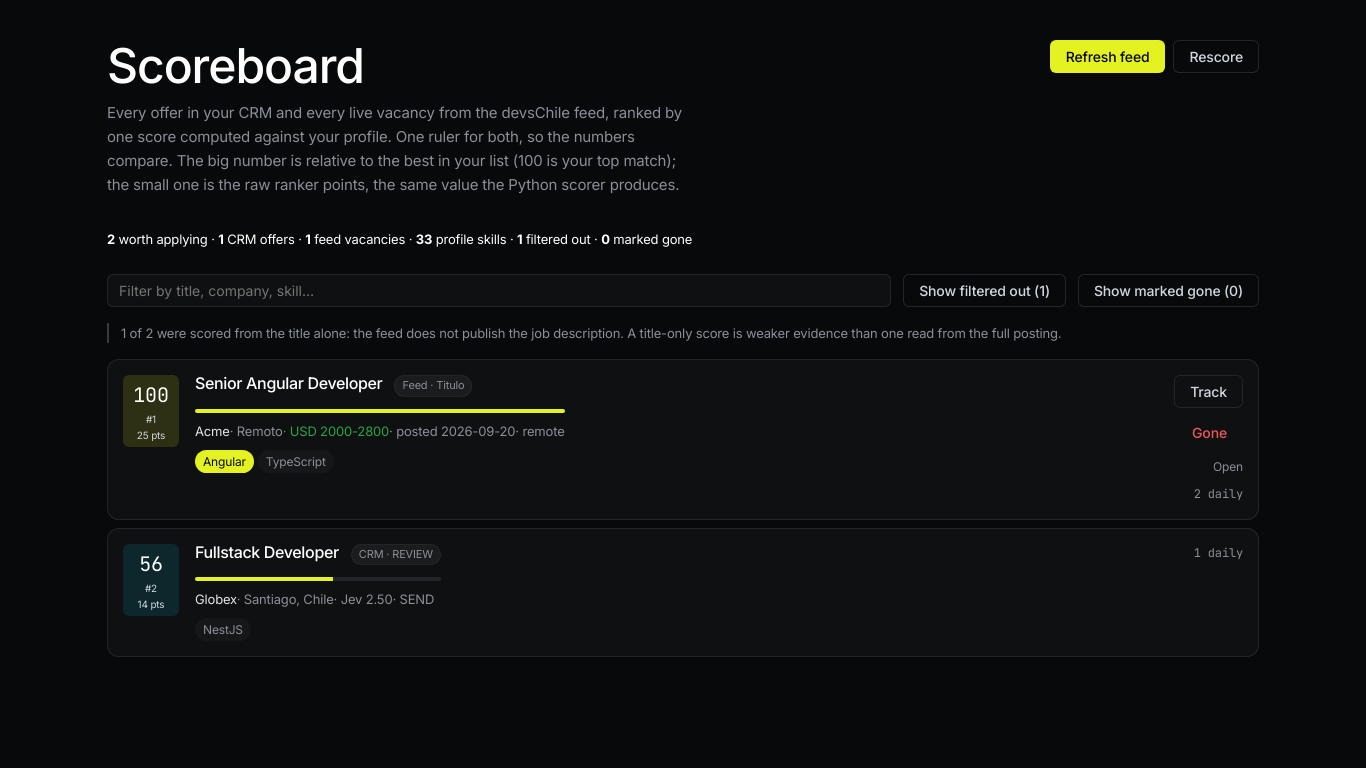
Scenario: ScoreboardComponent › opens the full detail when the card is tapped
The image size is (1366, 768).
Click the button with aria-label "Ver el detalle de Senior Angular Developer". click: (683, 440)
box: [107,359,1259,520]
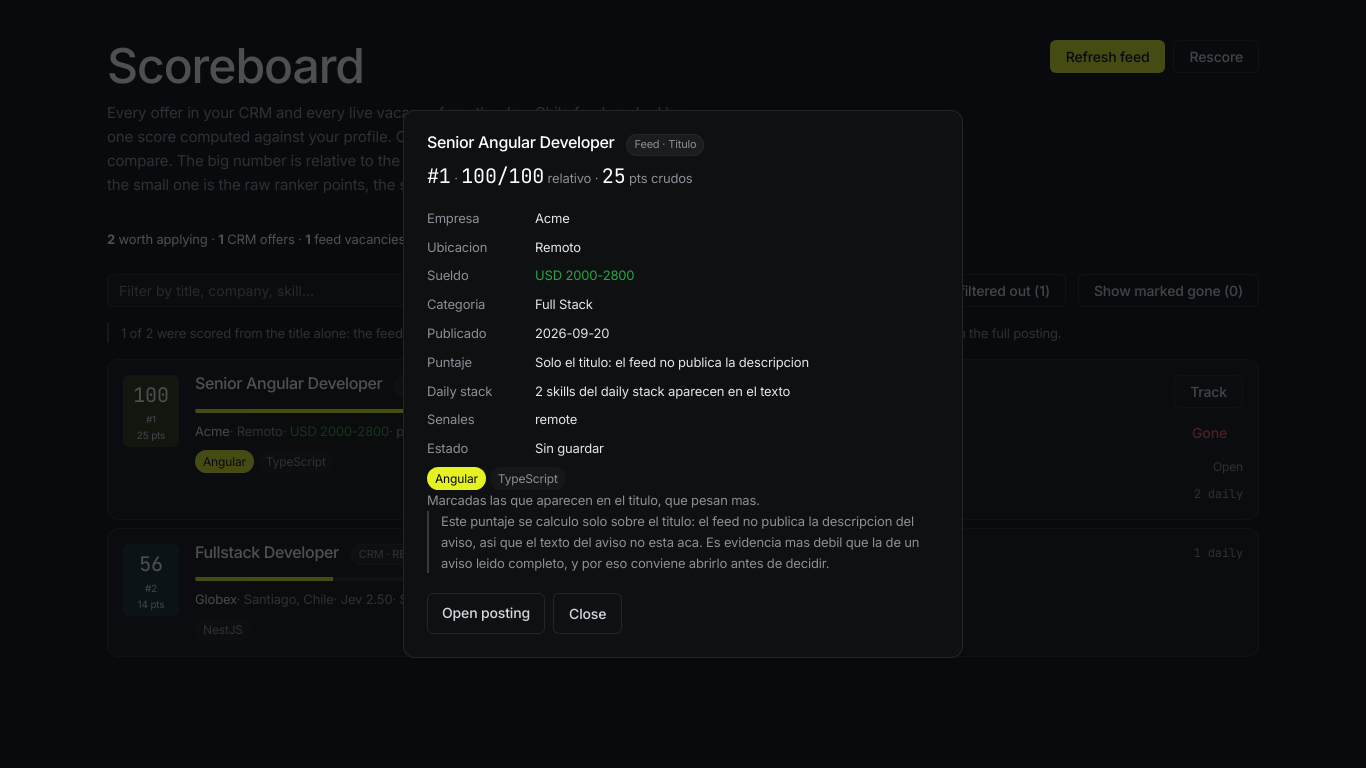
Now the element with class "modal" is shown
Now the element with class "modal" shows "Senior Angular Developer", box [427,132,614,152]
Now the element with class "modal" shows "Acme", box [535,210,570,226]
